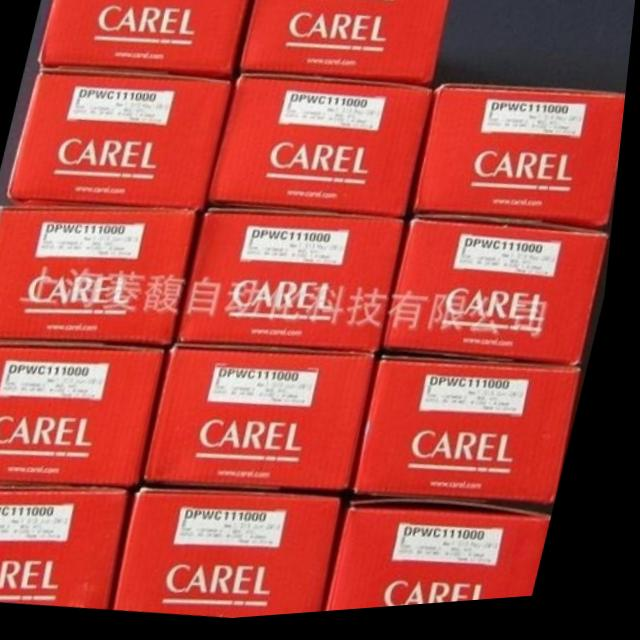box: (361, 364, 587, 522), (185, 211, 415, 362), (392, 221, 613, 375), (156, 351, 390, 495), (11, 66, 238, 213), (417, 90, 628, 242), (218, 79, 439, 223), (123, 490, 356, 622), (0, 203, 205, 349), (337, 501, 562, 617), (0, 339, 173, 489), (236, 0, 453, 89), (0, 483, 146, 610), (35, 0, 253, 79)
